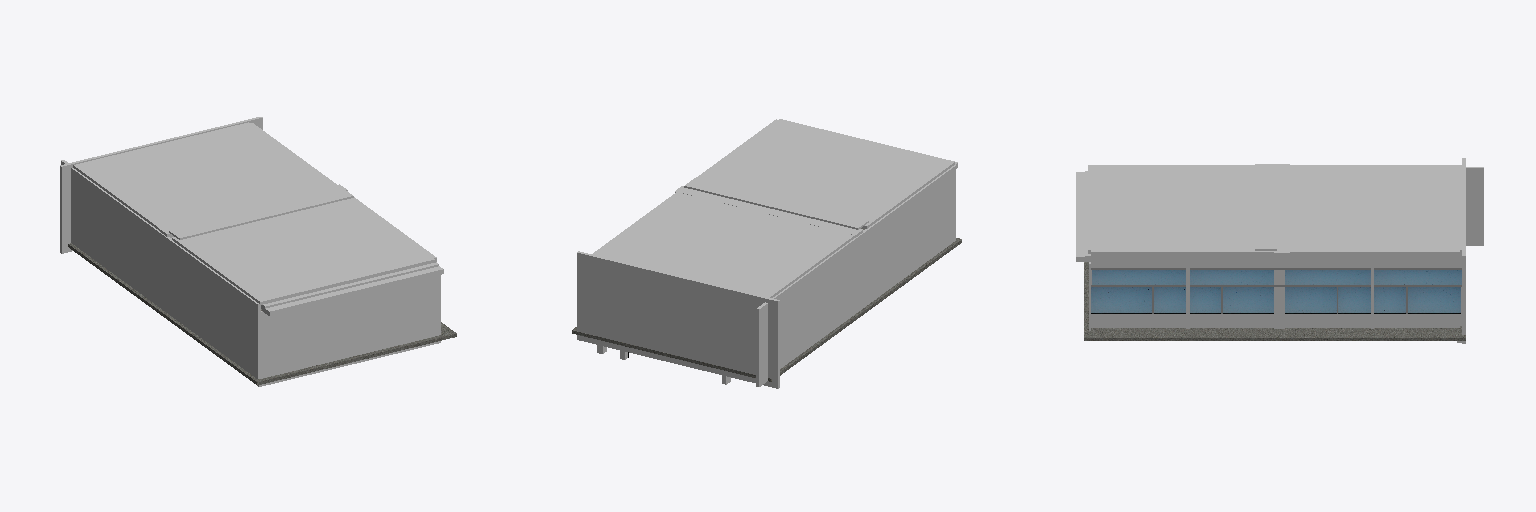
3 renders of one model, left to right at view 1: azimuth 30°, elevation 25°; view 2: azimuth 150°, elevation 25°; view 3: azimuth 270°, elevation 25°, orthographic.
Visible parts, largest first — view 1: ceiling_Cube.002, wall03_Cube, wall_02_Cube.036, floor_Cube.008, vertical_beam_large02.005_Cube.037, wall04_Cube.039, vertical_beam_large02.004_Cube.035, vertical_beam_large02.001_Cube.032, vertical_beam_large02.003_Cube.034; view 2: ceiling_Cube.002, wall04_Cube.039, wall03_Cube, vertical_beam_large02.005_Cube.037, floor_Cube.008, vertical_beam_large02.001_Cube.032, whiteboard_01_Cube.006; view 3: ceiling_Cube.002, wire_cover.001_Cube.031, floor_Cube.008, wall_window_bottom_Cube.003, vertical_beam_large02.005_Cube.037, window01_Cube.019, window08_Cube.026, wall03_Cube, window08.004_Cube.030, window05_Cube.020, window04_Cube.018, window08.001_Cube.027 (+12 smaller).
Part boxes in pixels (x1,y1,x2,y2): ceiling_Cube.002: (73, 122, 435, 304); wall03_Cube: (61, 160, 260, 378); wall_02_Cube.036: (258, 275, 440, 386); floor_Cube.008: (68, 243, 456, 385); vertical_beam_large02.005_Cube.037: (169, 188, 353, 239); wall04_Cube.039: (60, 117, 262, 253); vertical_beam_large02.004_Cube.035: (262, 266, 443, 315); vertical_beam_large02.001_Cube.032: (159, 184, 347, 237); vertical_beam_large02.003_Cube.034: (261, 262, 438, 308); ceiling_Cube.002: (595, 119, 954, 297); wall04_Cube.039: (577, 251, 779, 388); wall03_Cube: (756, 165, 955, 386); vertical_beam_large02.005_Cube.037: (684, 178, 868, 229); floor_Cube.008: (572, 228, 961, 381); vertical_beam_large02.001_Cube.032: (675, 186, 862, 237); whiteboard_01_Cube.006: (620, 265, 730, 384); ceiling_Cube.002: (1088, 165, 1461, 253); wire_cover.001_Cube.031: (1091, 250, 1459, 267); floor_Cube.008: (1084, 262, 1465, 340); wall_window_bottom_Cube.003: (1091, 314, 1459, 327); vertical_beam_large02.005_Cube.037: (1255, 164, 1276, 250); window01_Cube.019: (1091, 287, 1151, 313); window08_Cube.026: (1408, 287, 1460, 313); wall03_Cube: (1466, 167, 1483, 245); window08.004_Cube.030: (1092, 270, 1185, 284); window05_Cube.020: (1285, 287, 1336, 313); window04_Cube.018: (1223, 287, 1273, 313); window08.001_Cube.027: (1374, 270, 1461, 284).
Size of the model in its own units: 134 by 59.95 by 229.
Materials: 14 (11 with a texture image).